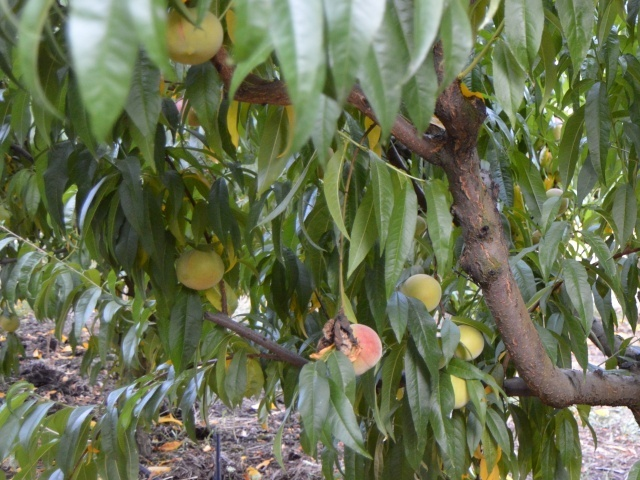peach: (159, 4, 224, 70), (339, 320, 386, 380), (172, 247, 230, 292), (396, 266, 444, 319), (450, 319, 487, 365), (542, 181, 574, 216), (446, 374, 473, 414), (1, 308, 24, 334)
